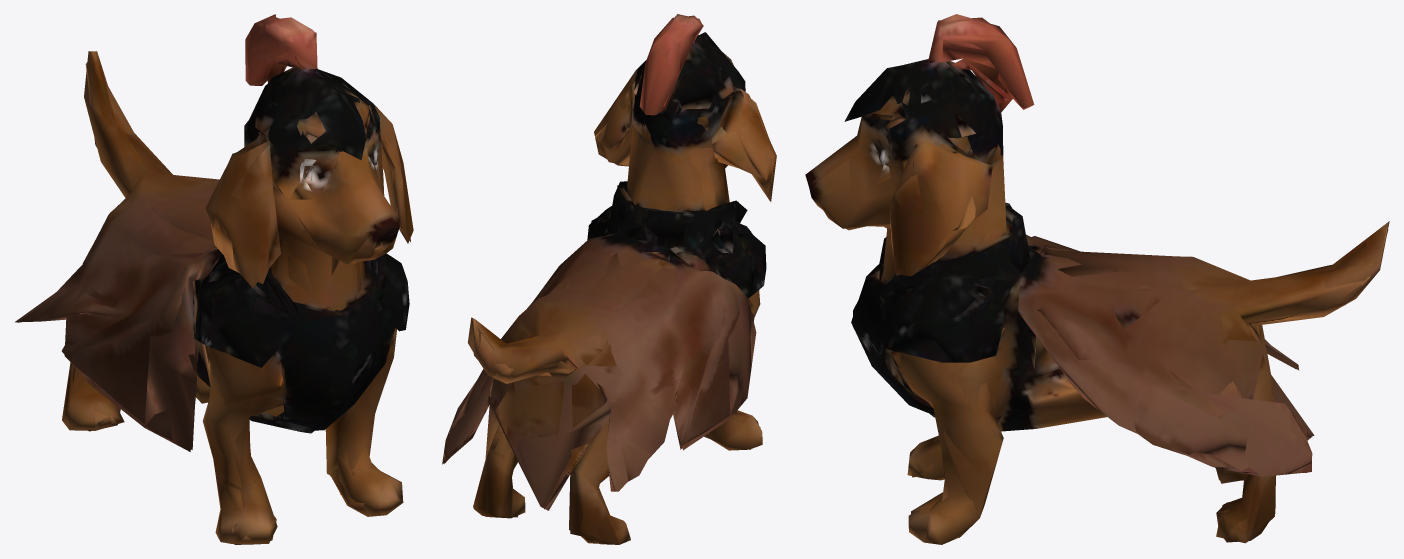
The model's file is detail_9_lo2.glb.
3 views of the same model, side by side, from view 1: azimuth 30°, elevation 25°; view 2: azimuth 150°, elevation 25°; view 3: azimuth 270°, elevation 25° (orthographic). The views are drawn at different scales.
Parts seen in each view (by area): view 1: Mesh_0.001; view 2: Mesh_0.001; view 3: Mesh_0.001.
Part boxes in pixels (left/top/right/bottom): Mesh_0.001: left=15, top=14, right=413, bottom=544; Mesh_0.001: left=442, top=14, right=776, bottom=544; Mesh_0.001: left=805, top=14, right=1389, bottom=544.
Bounding box in the file's own units: 0.4746 × 0.9046 × 0.9935.
Materials: 1 (1 with a texture image).
